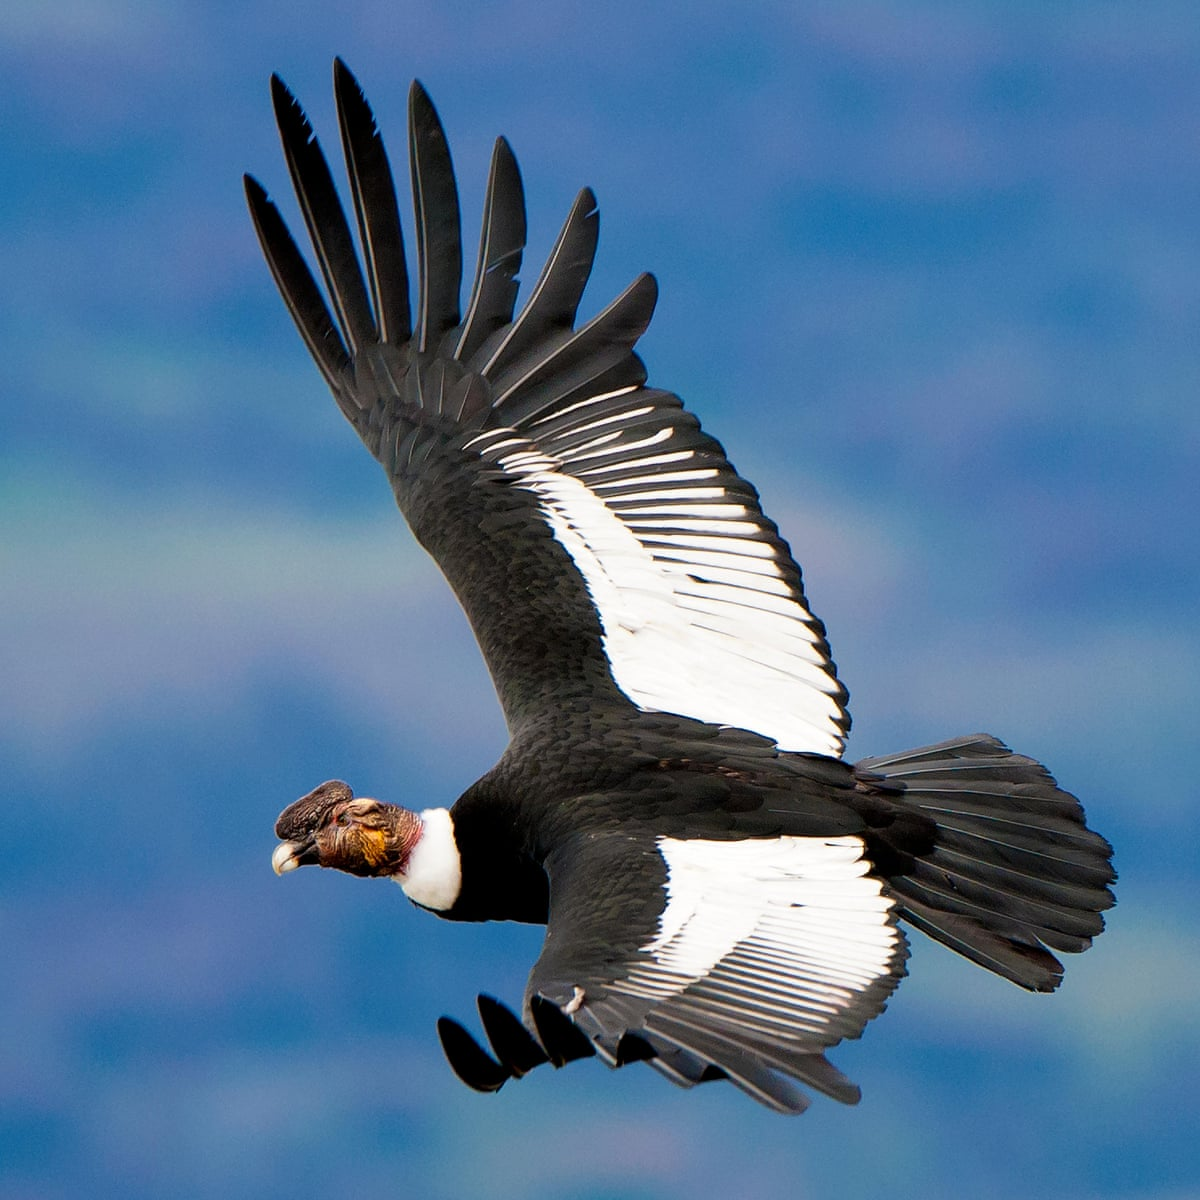bird: (162, 34, 1146, 1143)
